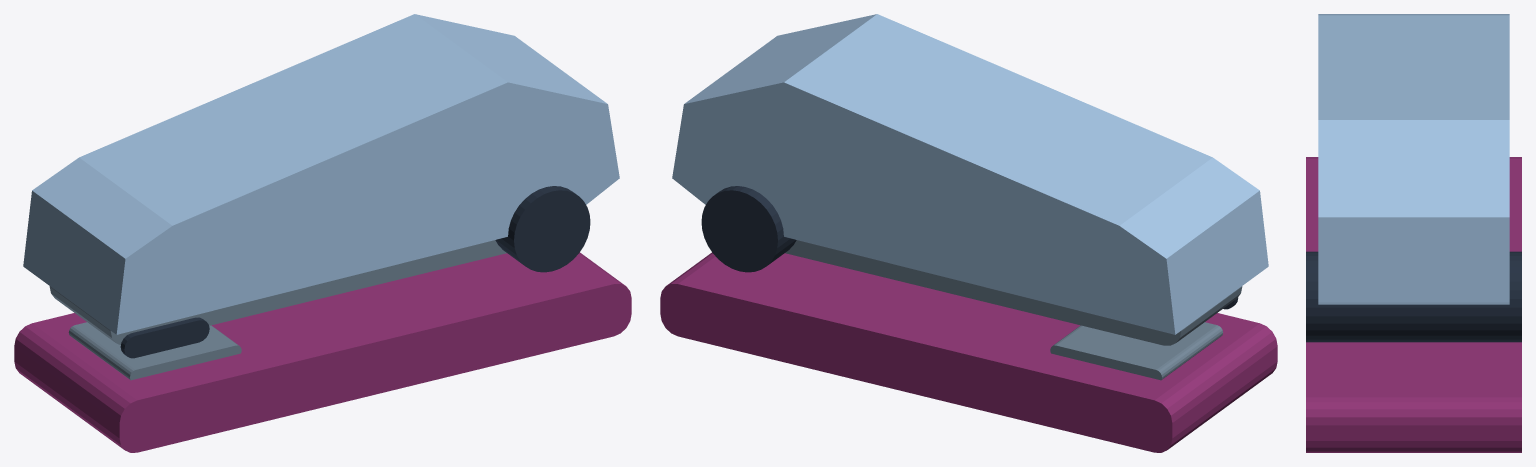
File: nailer.glb
3 views of the same model, side by side, from view 1: azimuth 30°, elevation 25°; view 2: azimuth 150°, elevation 25°; view 3: azimuth 270°, elevation 25° (orthographic). The views are drawn at different scales.
Visible parts, largest first — view 1: lever, base, hinge, magazine, anvil, paper notch; view 2: lever, base, magazine, hinge, anvil; view 3: lever, base, hinge.
Part boxes in pixels (left/top/right/bottom): lever: left=23, top=14, right=619, bottom=334; base: left=14, top=252, right=631, bottom=452; hinge: left=495, top=186, right=590, bottom=272; magazine: left=49, top=240, right=506, bottom=345; anvil: left=68, top=322, right=241, bottom=380; paper notch: left=120, top=317, right=209, bottom=358; lever: left=672, top=14, right=1268, bottom=334; base: left=660, top=252, right=1277, bottom=452; magazine: left=785, top=240, right=1242, bottom=345; hinge: left=701, top=186, right=796, bottom=272; anvil: left=1050, top=322, right=1223, bottom=380; lever: left=1318, top=14, right=1509, bottom=304; base: left=1306, top=157, right=1521, bottom=452; hinge: left=1306, top=251, right=1521, bottom=342.
Bounding box in the file's own units: 1.74 × 0.89 × 0.62.
